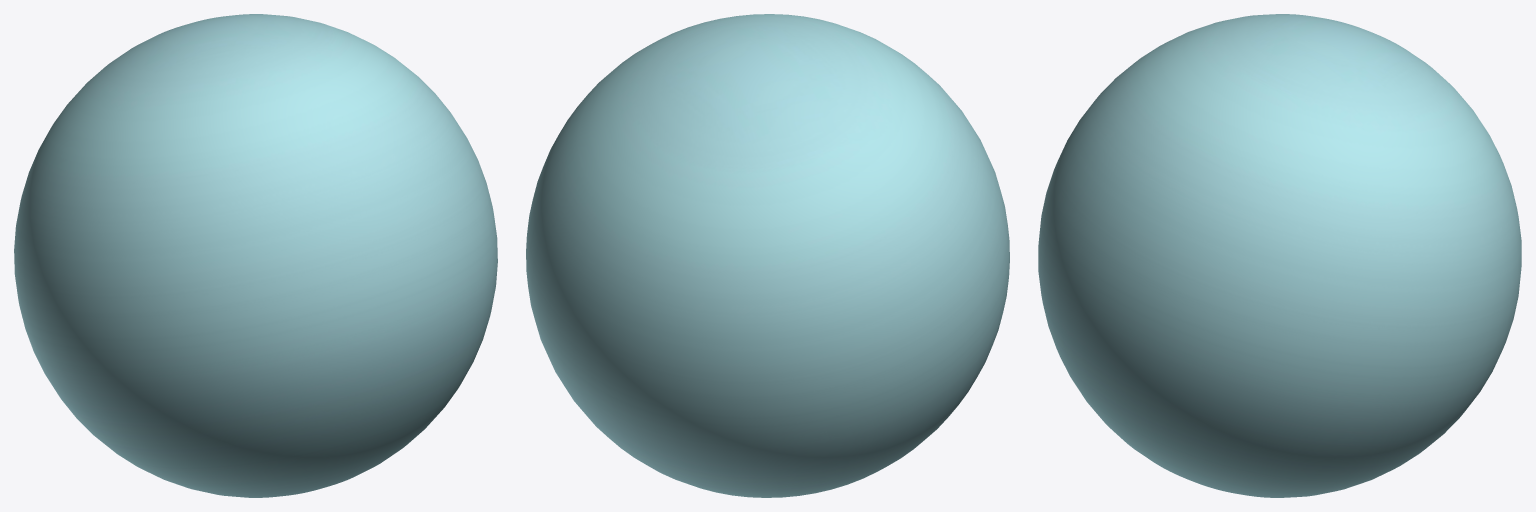
File: Uranus.glb
3 renders of one model, left to right at view 1: azimuth 30°, elevation 25°; view 2: azimuth 150°, elevation 25°; view 3: azimuth 270°, elevation 25°, orthographic.
Visible parts, largest first — view 1: uranus; view 2: uranus; view 3: uranus.
Boxes of the visible parts, x1,y1,x2,y2 form: uranus: (14, 14, 497, 497); uranus: (526, 14, 1009, 497); uranus: (1038, 14, 1521, 497).
Bounding box in the file's own units: 2.02 × 2.02 × 2.02.
1 material, 1 textured.
